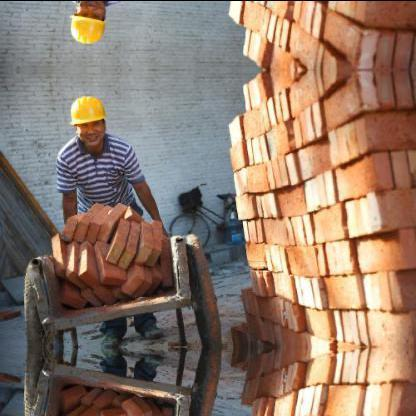Helmet: (66, 88, 108, 146), (65, 0, 109, 49)
